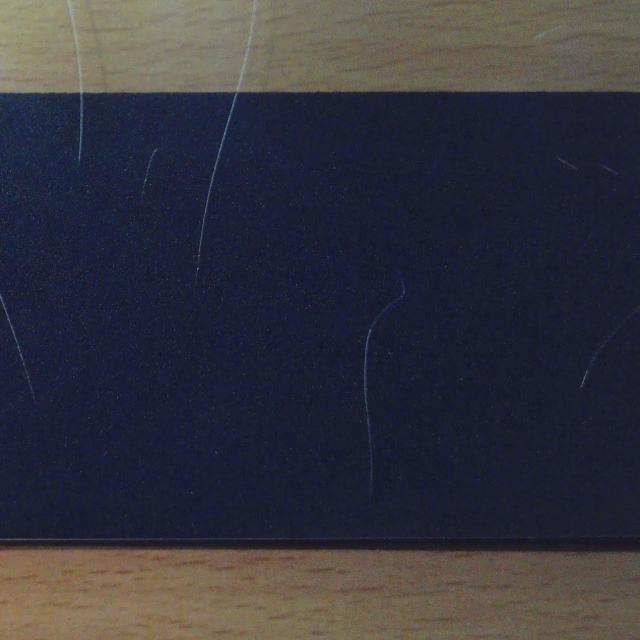defect: (356, 284, 405, 498), (191, 93, 238, 284), (582, 303, 640, 389), (0, 295, 43, 408), (75, 95, 86, 165), (145, 147, 157, 199), (554, 157, 583, 175), (600, 163, 624, 180)
